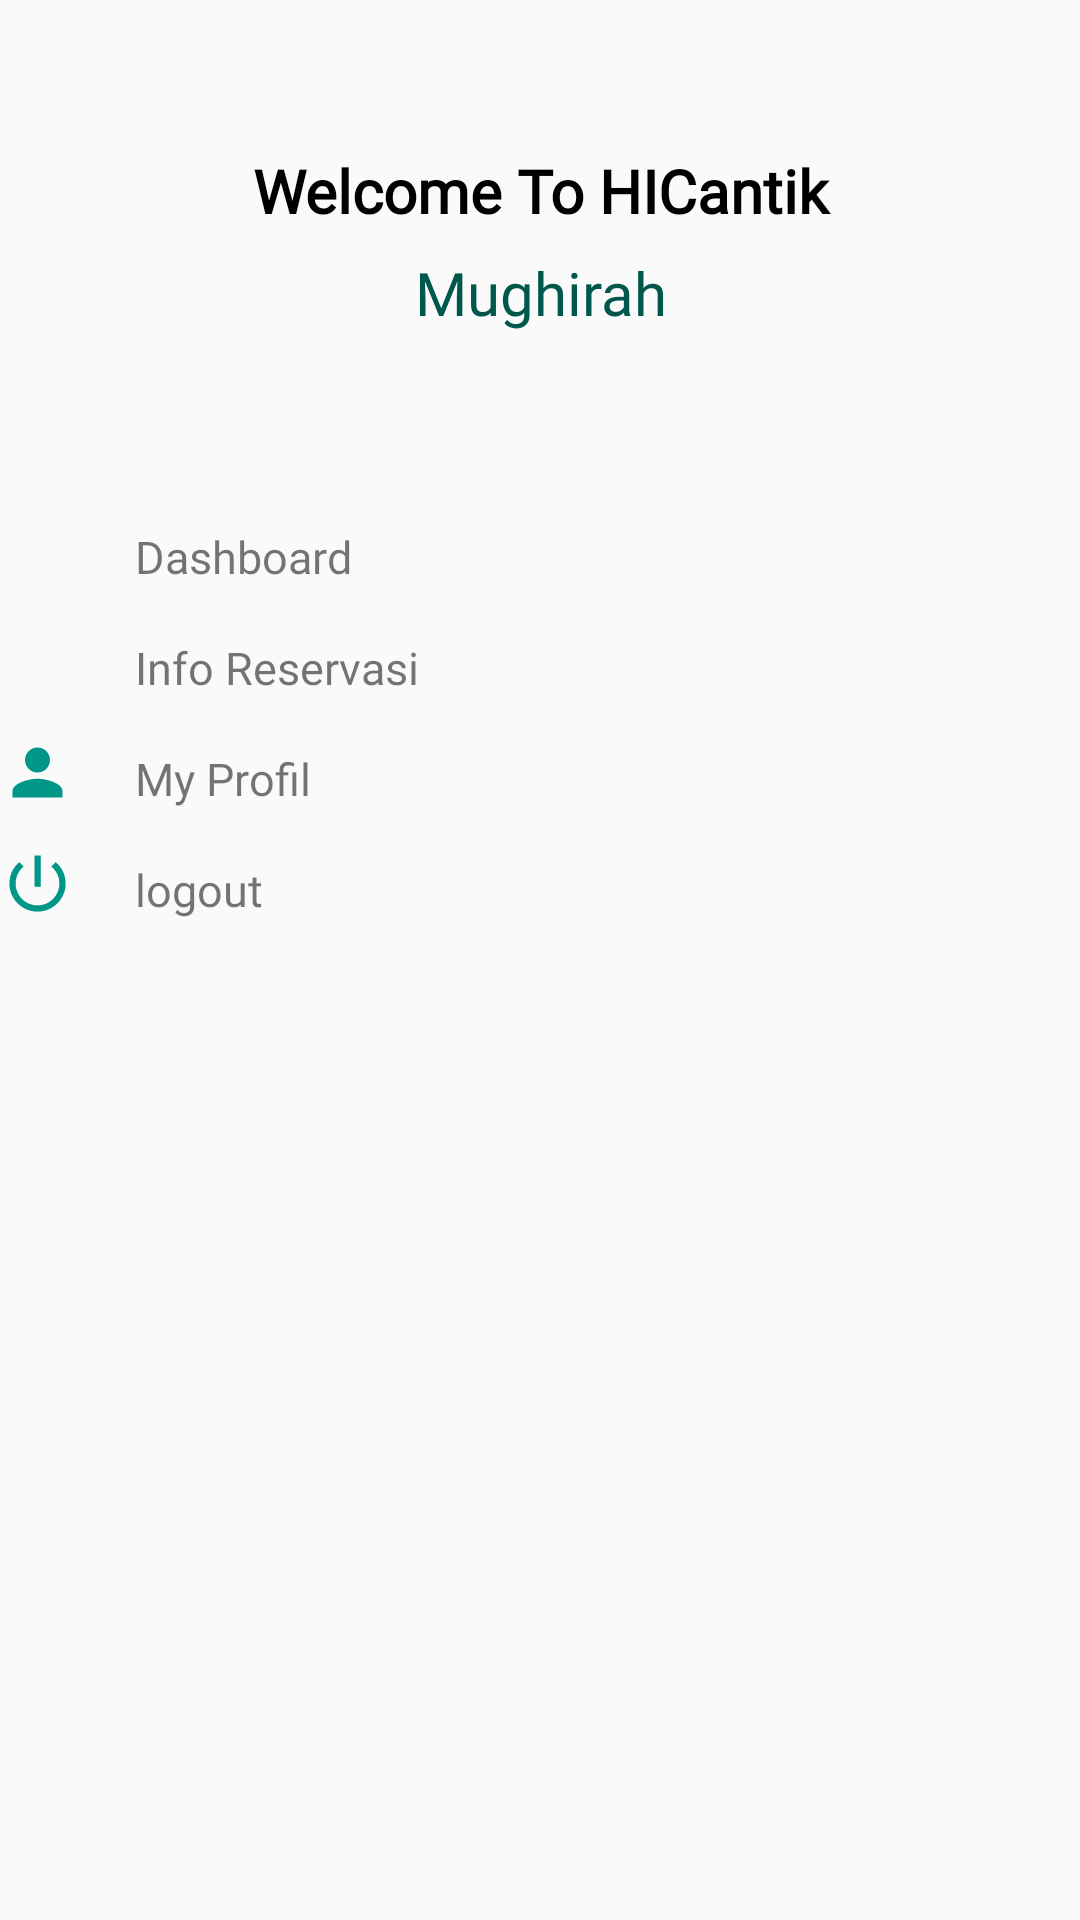

Where to tap for icons on this 1080x1920 app screen, as point (x, y):
keluar: point (37, 883)
user: point (37, 772)
